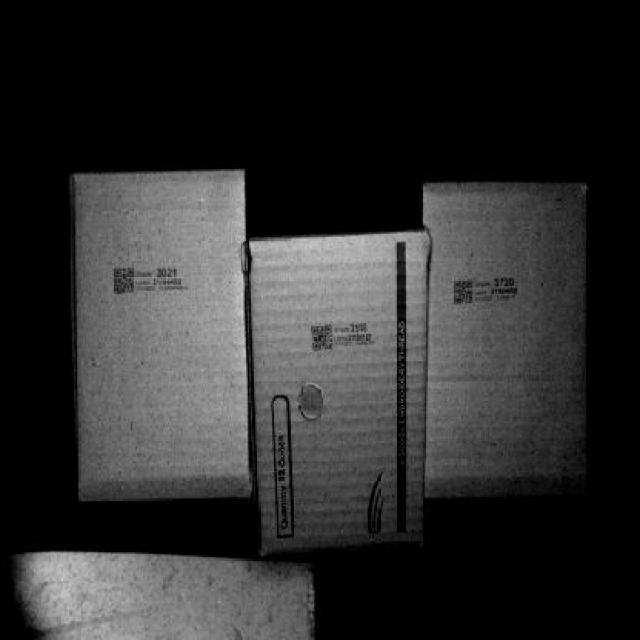cardboxes: (74, 168, 252, 464)
